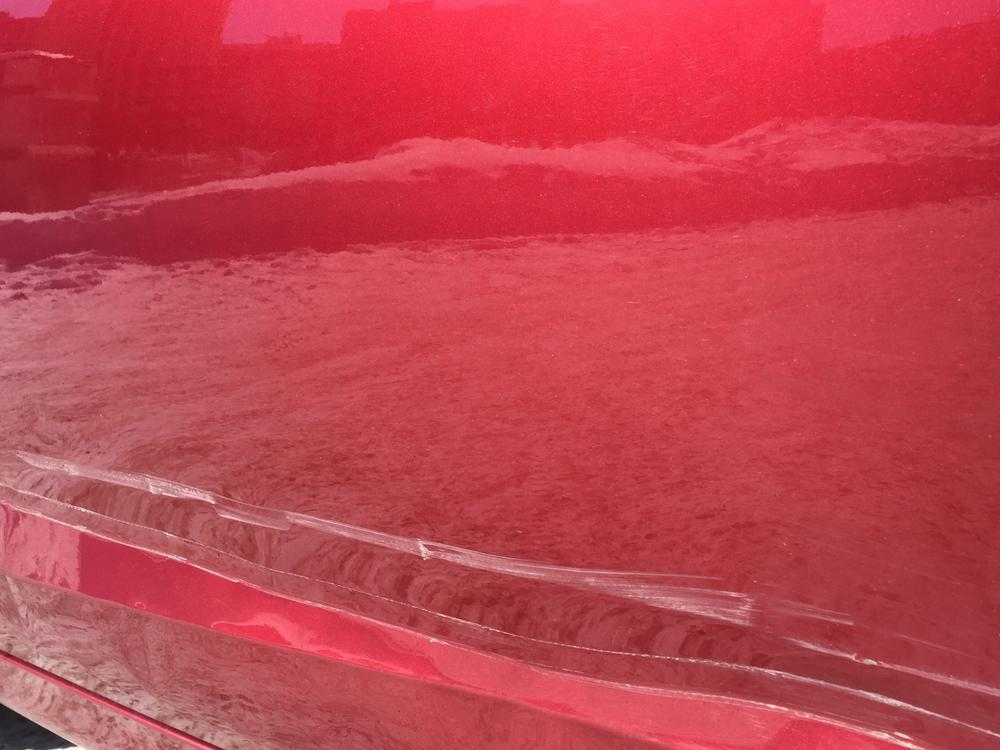scratch: (0, 438, 1000, 750)
